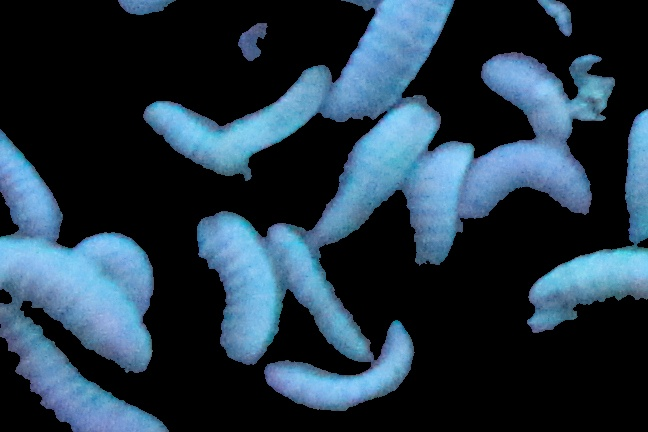larvae: (1, 305, 167, 432), (1, 241, 151, 368), (311, 103, 435, 246), (275, 224, 376, 363), (332, 1, 457, 108), (267, 319, 410, 410), (459, 145, 590, 241), (194, 212, 276, 360), (408, 140, 475, 270), (482, 53, 579, 142), (139, 99, 240, 178), (233, 68, 325, 152), (76, 225, 157, 320), (1, 122, 69, 235), (531, 250, 648, 306), (622, 102, 648, 243)
